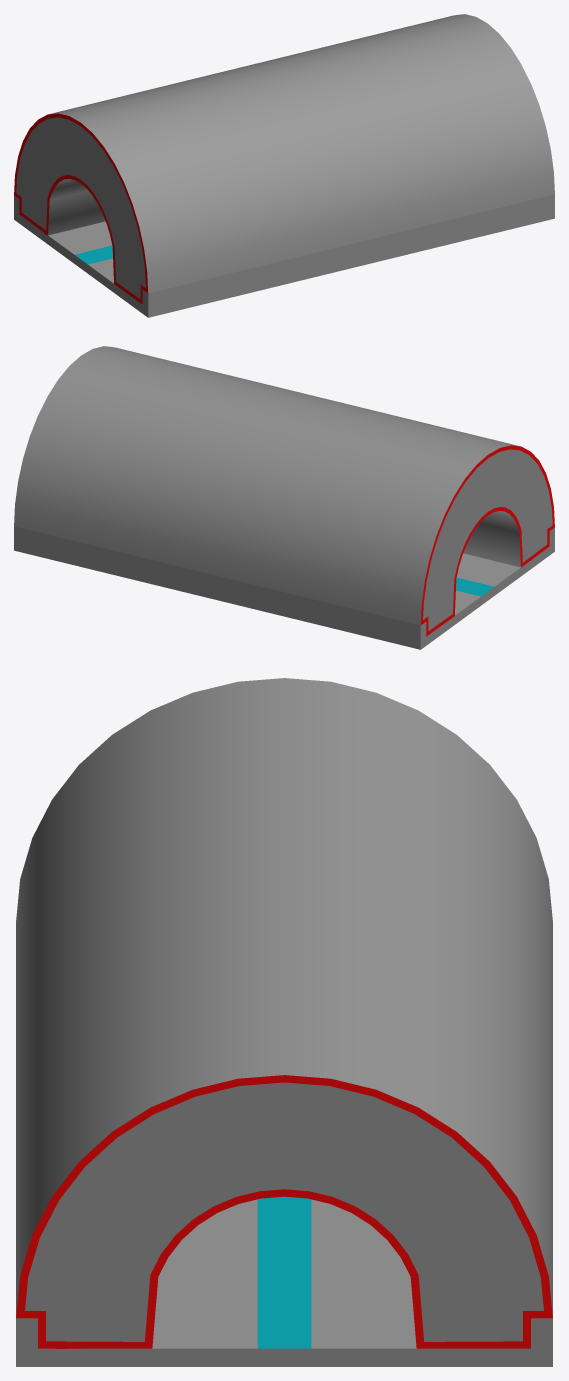
Rendered from mesh_road_tunnel_small.FBX.
3 views of the same model, one above another, from view 1: azimuth 30°, elevation 25°; view 2: azimuth 150°, elevation 25°; view 3: azimuth 270°, elevation 25° (orthographic). The views are drawn at different scales.
Parts seen in each view (by area): view 1: Box001; view 2: Box001; view 3: Box001.
Boxes of the visible parts, box(x1,y1,x2,y2) form: Box001: box(14, 14, 554, 317); Box001: box(14, 346, 554, 649); Box001: box(16, 678, 552, 1366).
Bounding box in the file's own units: 70 × 24 × 40.
